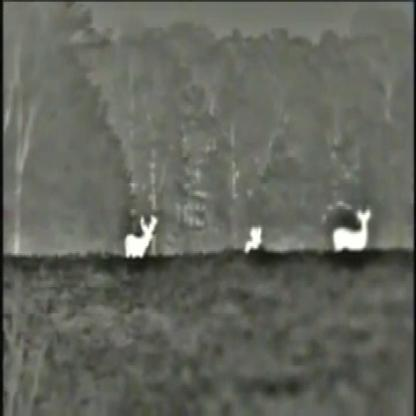rehkitze: (332, 207, 373, 254), (126, 216, 158, 261), (247, 226, 263, 254)
